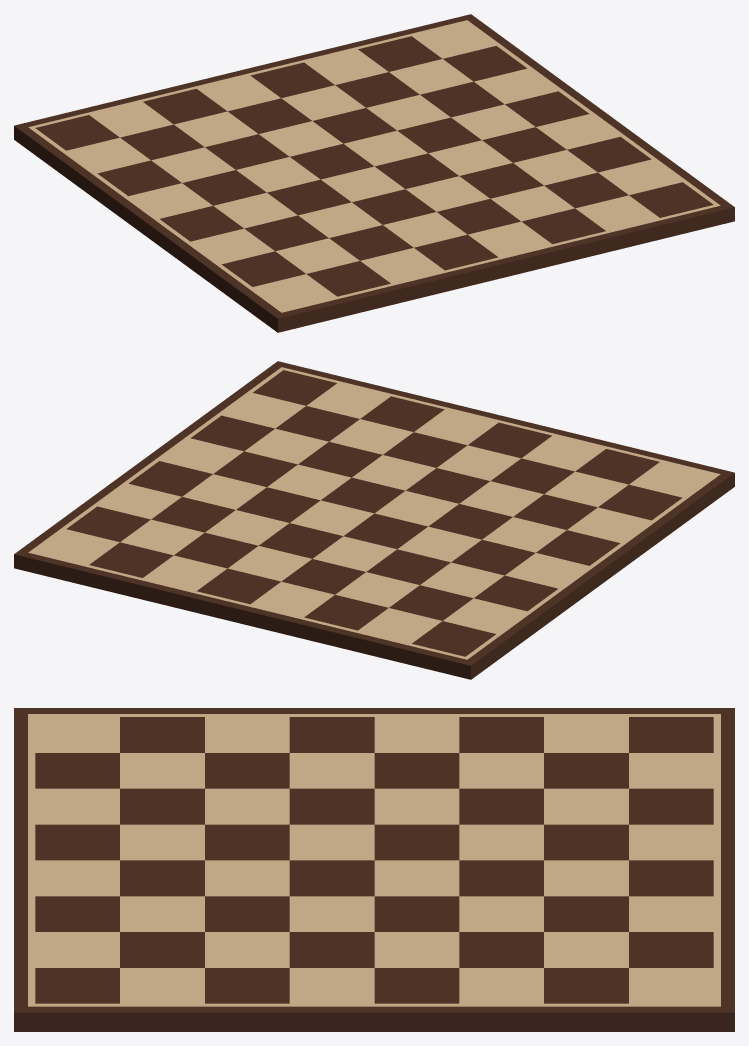
Rendered from checkers.glb.
3 renders of one model, top to bottom at view 1: azimuth 30°, elevation 25°; view 2: azimuth 150°, elevation 25°; view 3: azimuth 270°, elevation 25°, orthographic. The views are drawn at different scales.
Parts seen in each view (by area): view 1: checkers-board-brown-tan_model; view 2: checkers-board-brown-tan_model; view 3: checkers-board-brown-tan_model.
Boxes of the visible parts, x1,y1,x2,y2 form: checkers-board-brown-tan_model: (14,14,734,332); checkers-board-brown-tan_model: (14,361,734,679); checkers-board-brown-tan_model: (14,708,734,1031).
Size of the model in its own units: 20.4 by 0.6 by 20.4.
2 materials, 2 textured.
